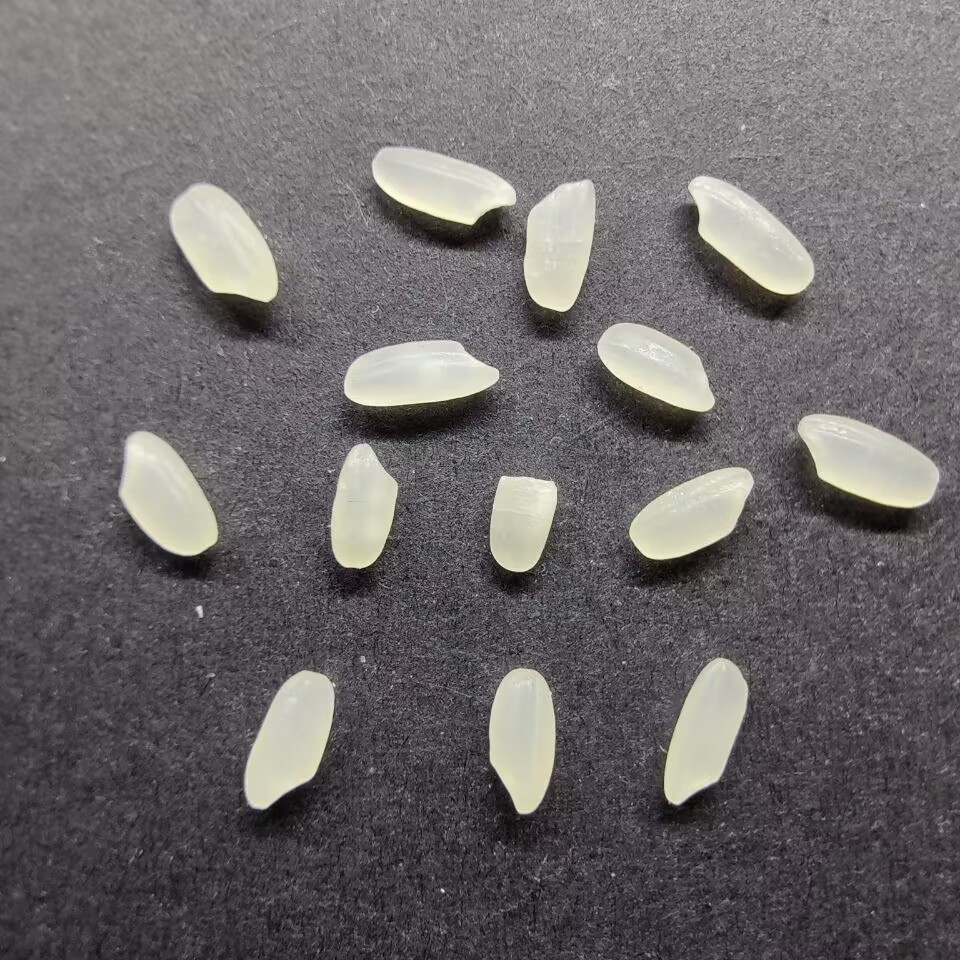broken: (485, 472, 558, 576)
rice: (685, 174, 819, 296), (793, 412, 943, 509), (166, 181, 281, 306), (240, 667, 337, 811), (659, 654, 750, 807), (115, 428, 220, 559), (369, 143, 518, 226), (341, 334, 501, 411), (629, 464, 754, 559), (593, 320, 717, 412), (486, 663, 559, 817), (520, 176, 598, 313), (328, 442, 398, 569)
